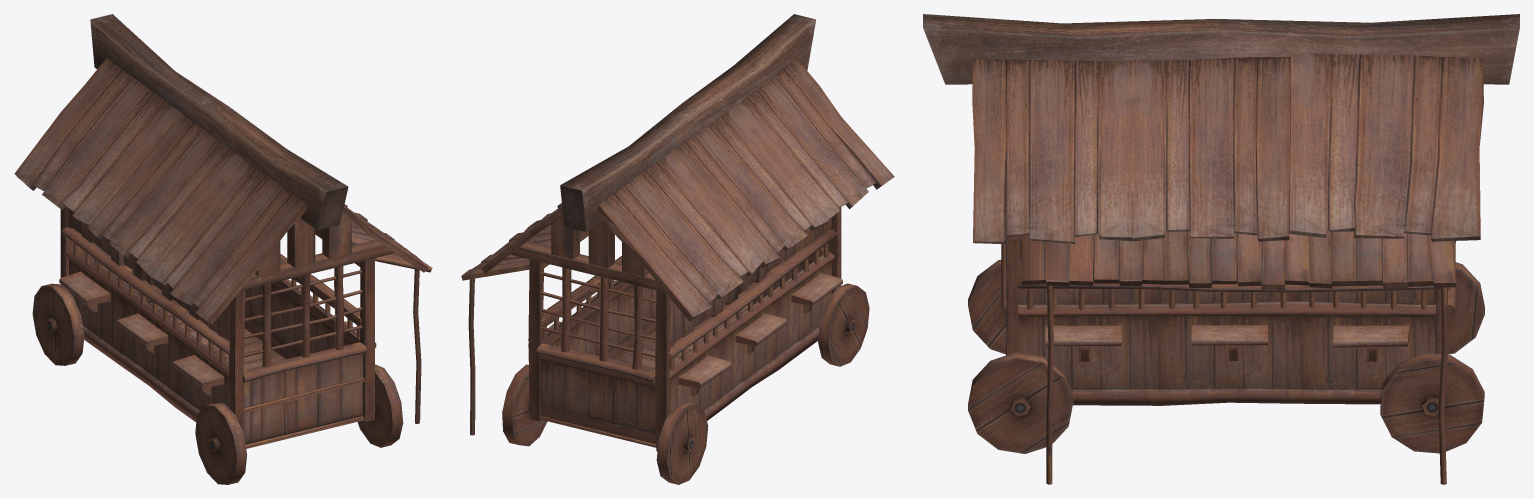
File: RamenCart.FBX
The picture shows the model from 3 angles, left to right: view 1: azimuth 30°, elevation 25°; view 2: azimuth 150°, elevation 25°; view 3: azimuth 270°, elevation 25°; orthographic projection. The views are drawn at different scales.
Visible parts, largest first — view 1: ramencart; view 2: ramencart; view 3: ramencart.
Part boxes in pixels (x1,y1,x2,y2): ramencart: (14, 14, 432, 484); ramencart: (461, 14, 894, 484); ramencart: (923, 14, 1519, 484).
Size of the model in its own units: 110 by 128 by 181.
